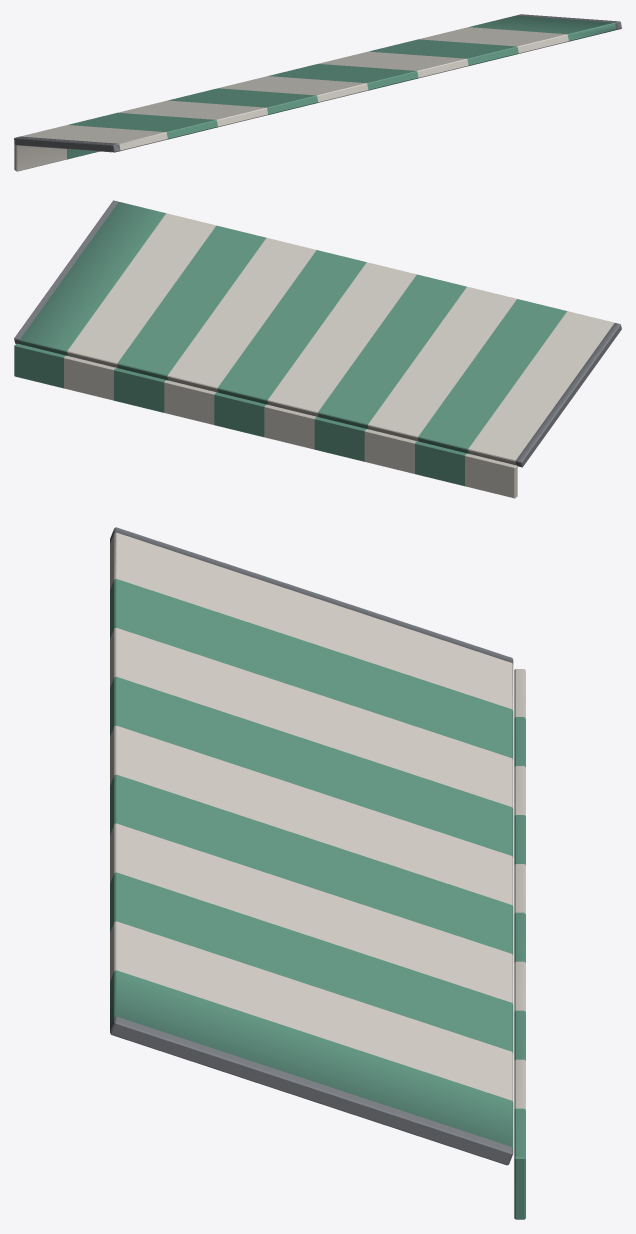
File: store_awning.glb
3 renders of one model, top to bottom at view 1: azimuth 30°, elevation 25°; view 2: azimuth 150°, elevation 25°; view 3: azimuth 270°, elevation 25°, orthographic. The views are drawn at different scales.
Size of the model in its own units: 3.04 by 0.5755 by 1.08.
